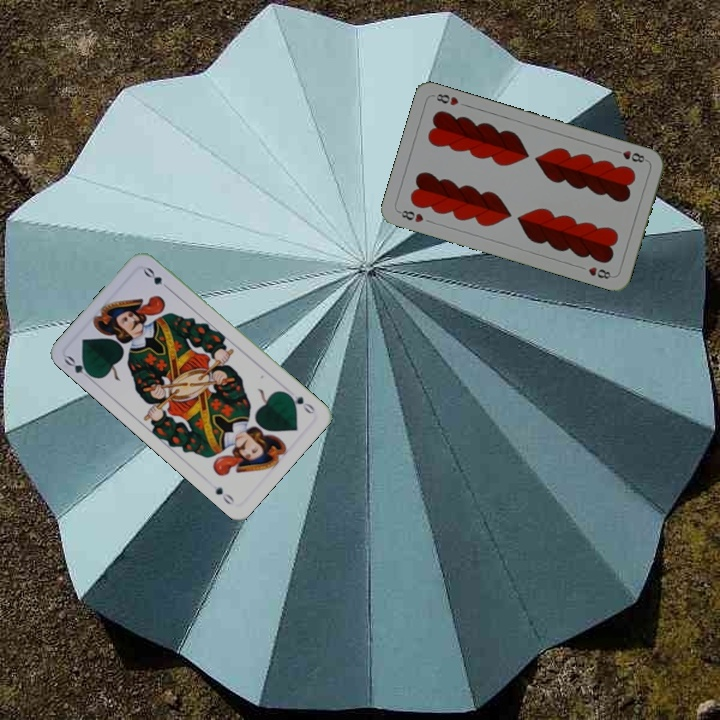GO: (60, 352, 97, 384), (282, 389, 318, 417)
H8: (610, 146, 650, 165), (395, 206, 426, 225)
